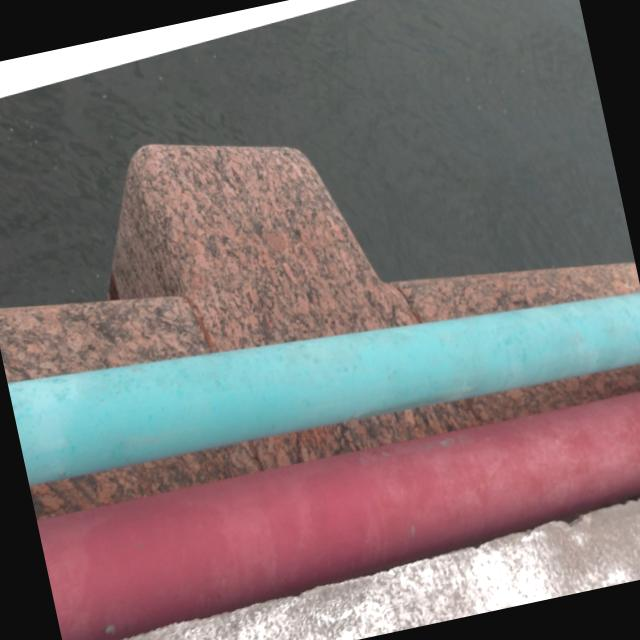gas: (6, 249, 640, 496), (34, 383, 640, 640)
